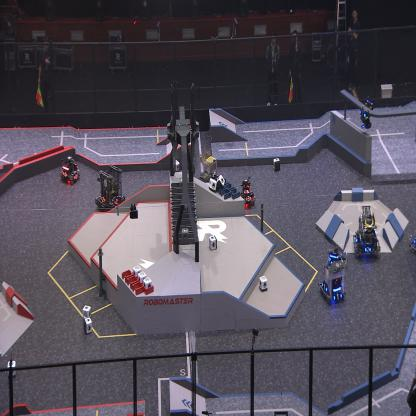car: (95, 162, 125, 216), (352, 206, 381, 259), (318, 258, 346, 305), (198, 153, 221, 190), (324, 244, 348, 278), (60, 154, 80, 184), (240, 180, 256, 210)
